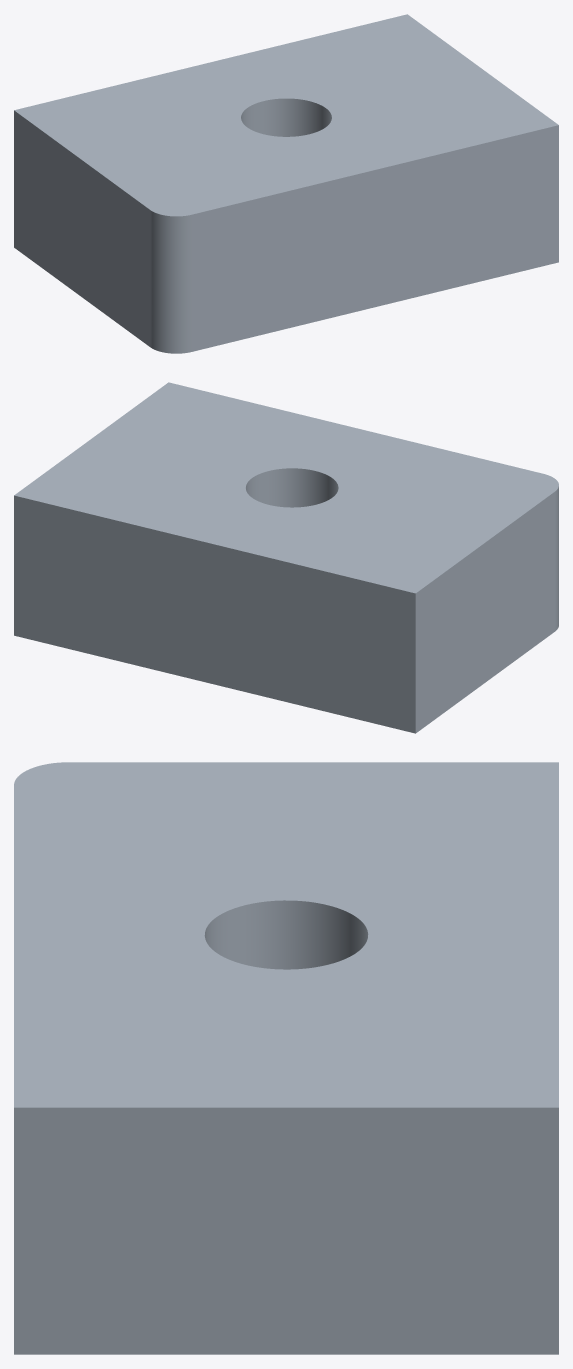
The model's file is Test_Block.glb.
3 renders of one model, top to bottom at view 1: azimuth 30°, elevation 25°; view 2: azimuth 150°, elevation 25°; view 3: azimuth 270°, elevation 25°, orthographic. The views are drawn at different scales.
Visible parts, largest first — view 1: Block; view 2: Block; view 3: Block.
Boxes of the visible parts, box(x1,y1,x2,y2) form: Block: box(14, 14, 558, 353); Block: box(14, 382, 558, 733); Block: box(14, 762, 558, 1354).
Size of the model in its own units: 0.06 by 0.02 by 0.04.
